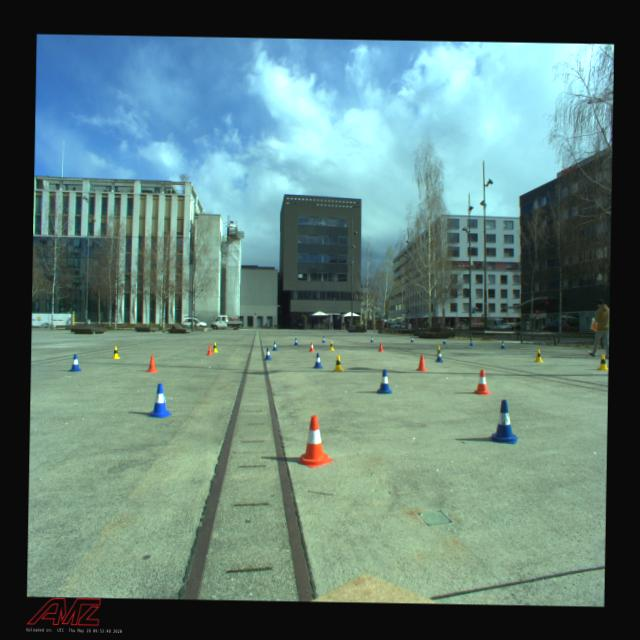blue_cone: (489, 398, 518, 444), (146, 382, 172, 418), (376, 368, 392, 394), (68, 354, 82, 372), (312, 353, 323, 368), (435, 349, 443, 362), (264, 348, 272, 360), (272, 341, 278, 350), (499, 341, 505, 348), (469, 338, 474, 346), (441, 337, 446, 344), (293, 338, 298, 344), (369, 336, 374, 342), (409, 336, 414, 342), (321, 336, 325, 342)
orange_cone: (473, 369, 492, 395), (146, 354, 158, 372), (416, 354, 427, 372), (206, 344, 213, 355), (377, 342, 384, 352), (308, 342, 314, 352)
yellow_cone: (332, 354, 344, 372), (597, 354, 608, 370), (533, 350, 544, 362), (110, 346, 120, 358), (434, 344, 442, 356), (211, 342, 218, 352), (328, 340, 335, 350)
